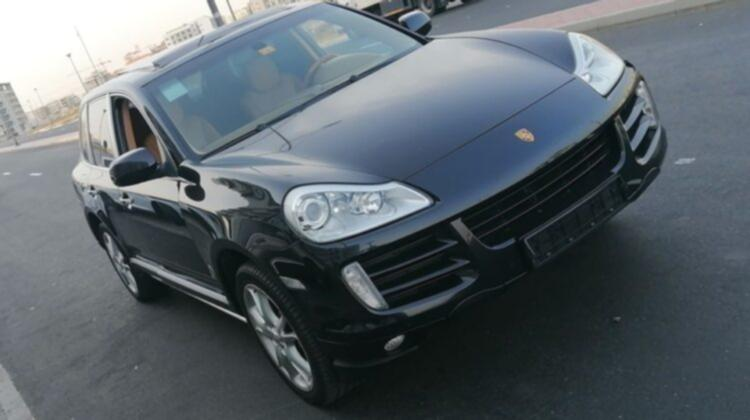porsche: (510, 122, 543, 149)
